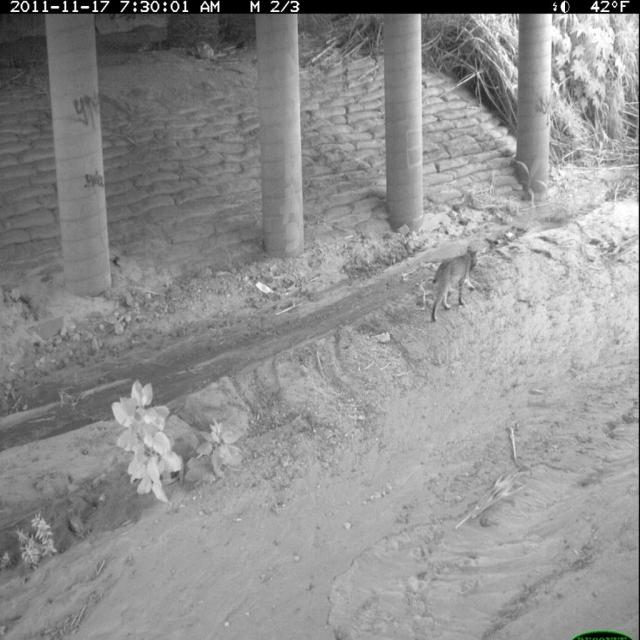bobcat: (426, 242, 483, 328)
